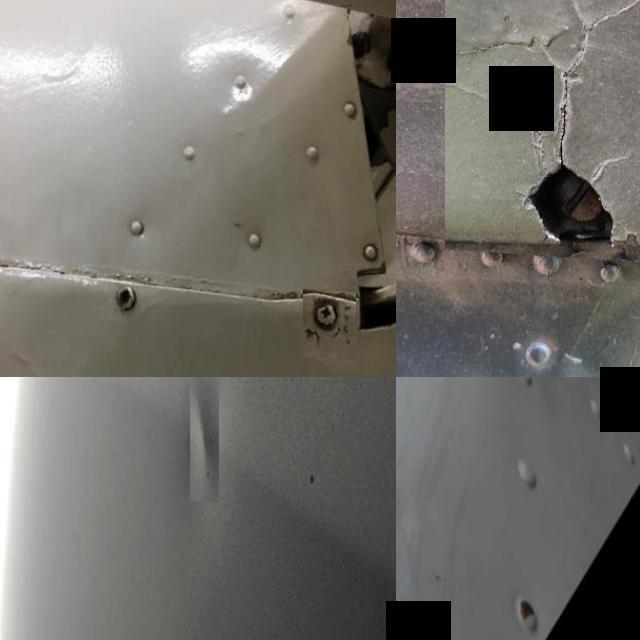Crack: (445, 0, 640, 262), (303, 282, 356, 354)
Dent: (396, 433, 425, 586), (190, 377, 219, 498)
